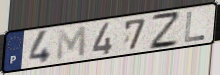4: (27, 29, 52, 66), (91, 21, 115, 56)
7: (123, 17, 147, 52)
L: (183, 10, 206, 43)
M: (55, 24, 88, 63)
Z: (149, 11, 180, 52)
